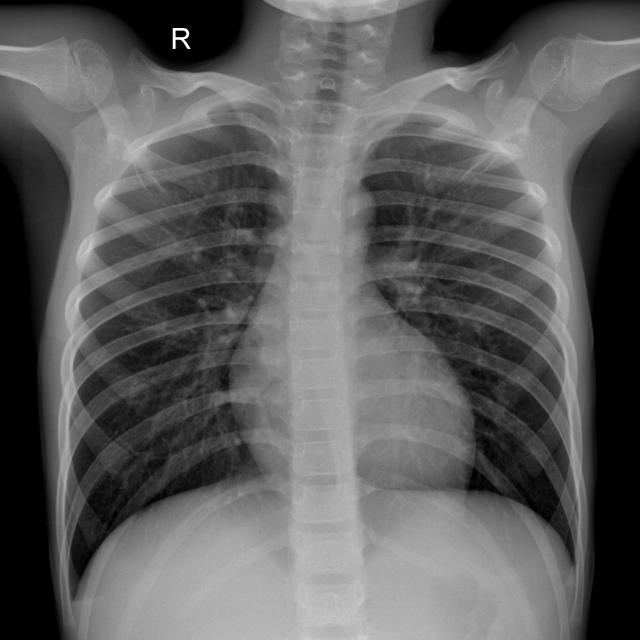no-pneumonia: (64, 97, 290, 582), (364, 118, 583, 567)
